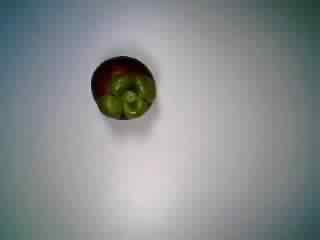mangosteen: (84, 46, 162, 122)
